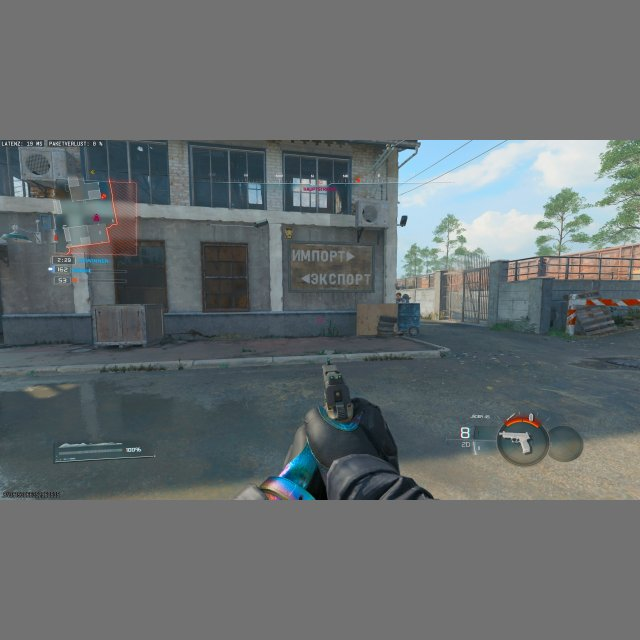player: (399, 292, 410, 310)
